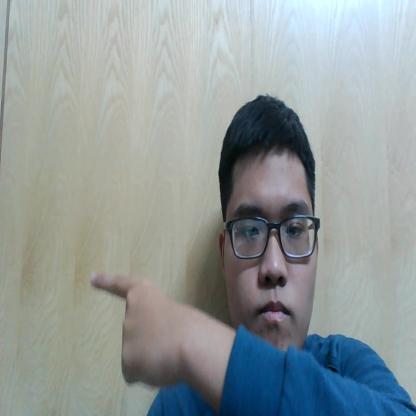right: (66, 250, 207, 398)
